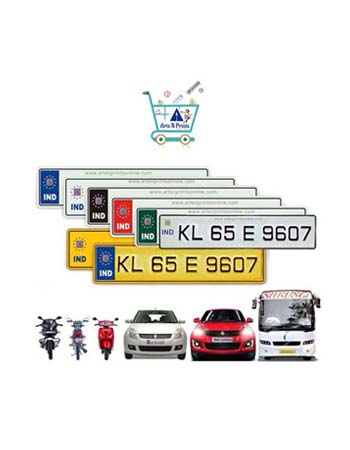number_plate: (159, 214, 317, 248)
